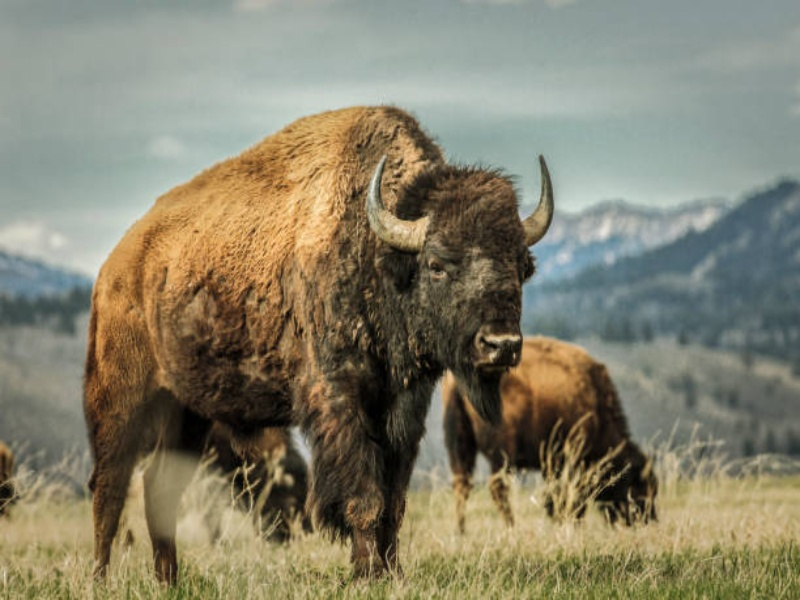buffalo: (84, 98, 562, 577)
